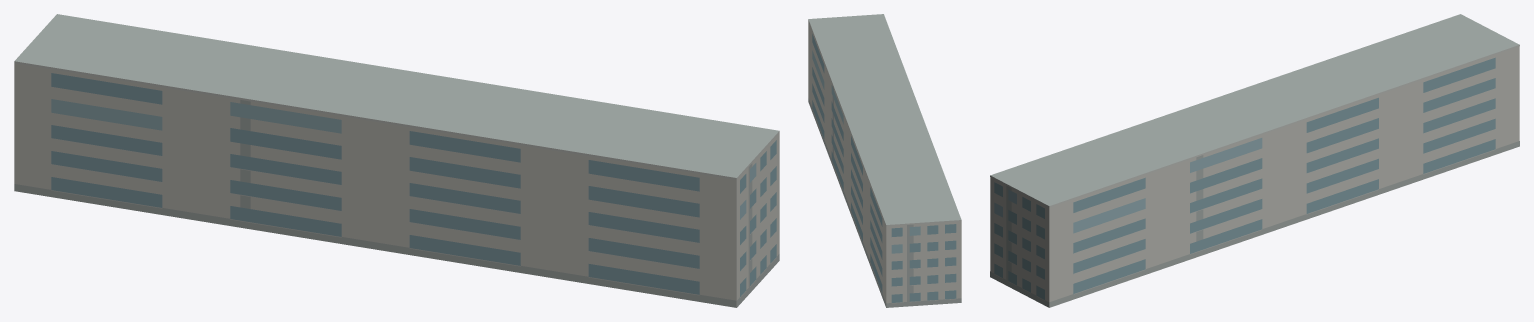
File: residential-ecd1e22e-300f-4b47-9a1e-0dfa38122c18.glb
The picture shows the model from 3 angles, left to right: view 1: azimuth 30°, elevation 25°; view 2: azimuth 150°, elevation 25°; view 3: azimuth 270°, elevation 25°; orthographic projection. The views are drawn at different scales.
Visible parts, largest first — view 1: residential-ecd1e22e-300f-4b47-9a1e-0dfa38122c18.tmp; view 2: residential-ecd1e22e-300f-4b47-9a1e-0dfa38122c18.tmp; view 3: residential-ecd1e22e-300f-4b47-9a1e-0dfa38122c18.tmp.
Boxes of the visible parts, x1,y1,x2,y2 form: residential-ecd1e22e-300f-4b47-9a1e-0dfa38122c18.tmp: (14, 14, 779, 307); residential-ecd1e22e-300f-4b47-9a1e-0dfa38122c18.tmp: (808, 14, 961, 307); residential-ecd1e22e-300f-4b47-9a1e-0dfa38122c18.tmp: (990, 14, 1519, 307).
Size of the model in its own units: 61.77 by 15.25 by 71.93.
